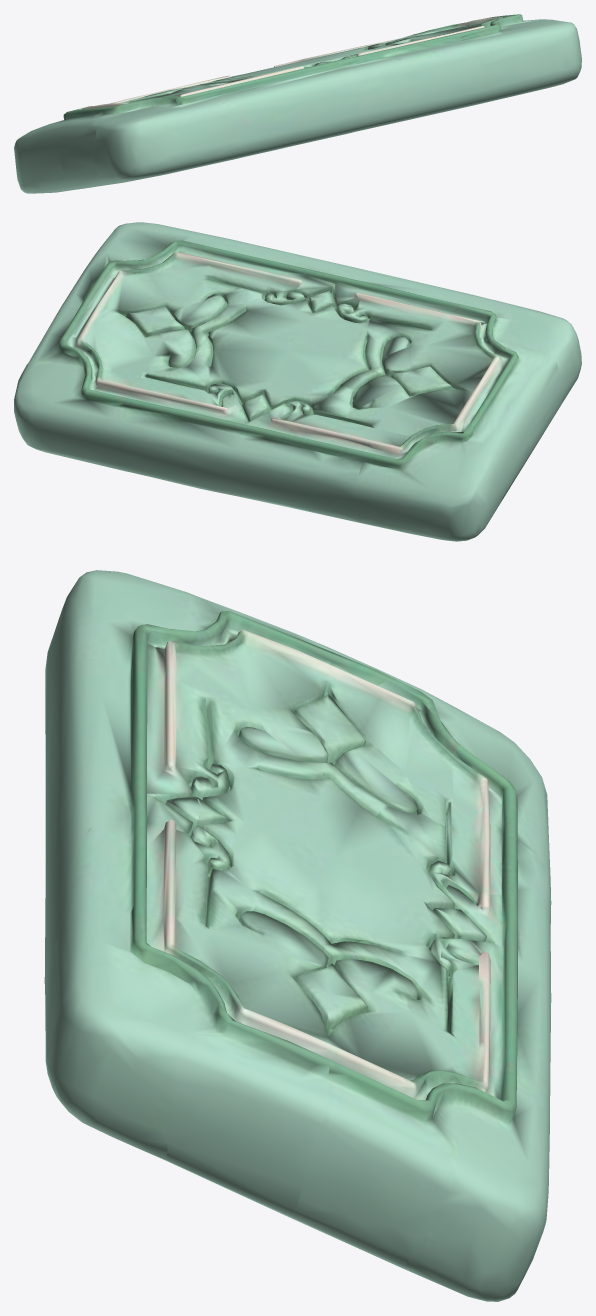
File: KR_사물_s1_money_shower.glb
The picture shows the model from 3 angles, top to bottom: view 1: azimuth 30°, elevation 25°; view 2: azimuth 150°, elevation 25°; view 3: azimuth 270°, elevation 25°; orthographic projection. The views are drawn at different scales.
Parts seen in each view (by area): view 1: bill_00_item_bill; view 2: bill_00_item_bill; view 3: bill_00_item_bill.
Boxes of the visible parts, x1,y1,x2,y2 form: bill_00_item_bill: [14, 14, 581, 193]; bill_00_item_bill: [14, 222, 581, 541]; bill_00_item_bill: [44, 570, 551, 1301].
Size of what is drawn, in the model's own units: 1.15 by 0.3723 by 0.5382.
Materials: 1 (1 with a texture image).
